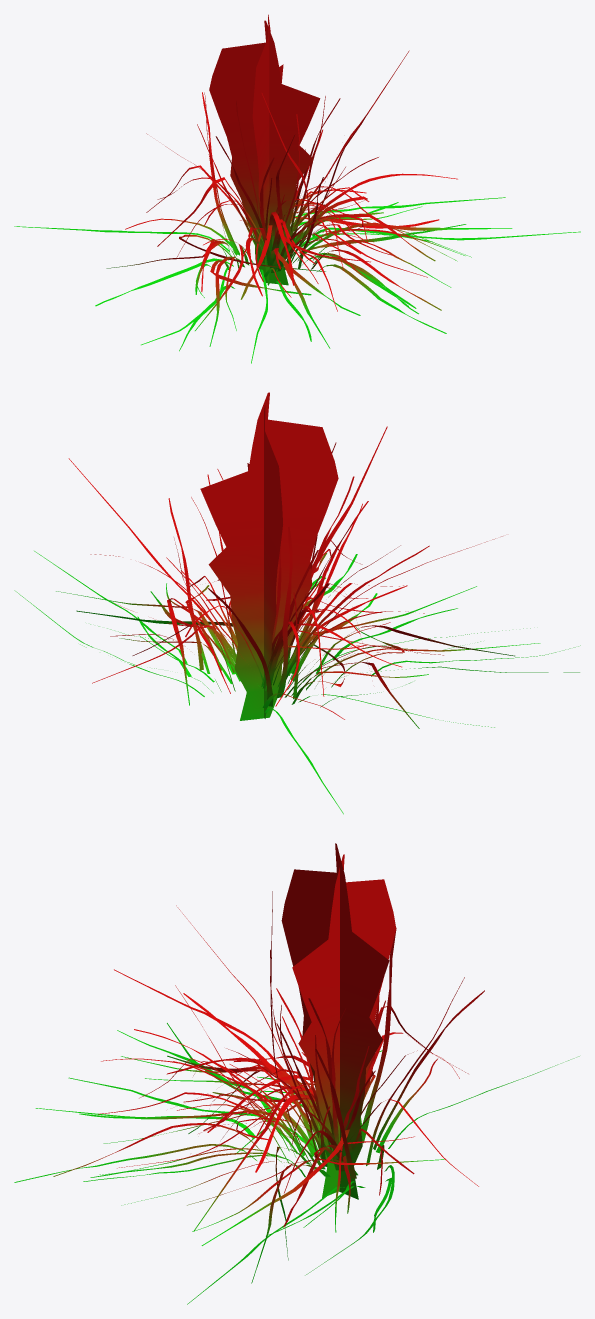
The model's file is Var12_LOD0.fbx.
3 renders of one model, top to bottom at view 1: azimuth 30°, elevation 25°; view 2: azimuth 150°, elevation 25°; view 3: azimuth 270°, elevation 25°, orthographic. The views are drawn at different scales.
Visible parts, largest first — view 1: _4ln9_Var12_LOD0; view 2: _4ln9_Var12_LOD0; view 3: _4ln9_Var12_LOD0.
Part boxes in pixels (x1,y1,x2,y2): _4ln9_Var12_LOD0: (14,14,580,363); _4ln9_Var12_LOD0: (14,392,580,814); _4ln9_Var12_LOD0: (14,843,579,1304).
Bounding box in the file's own units: 32.65 × 18.89 × 28.
